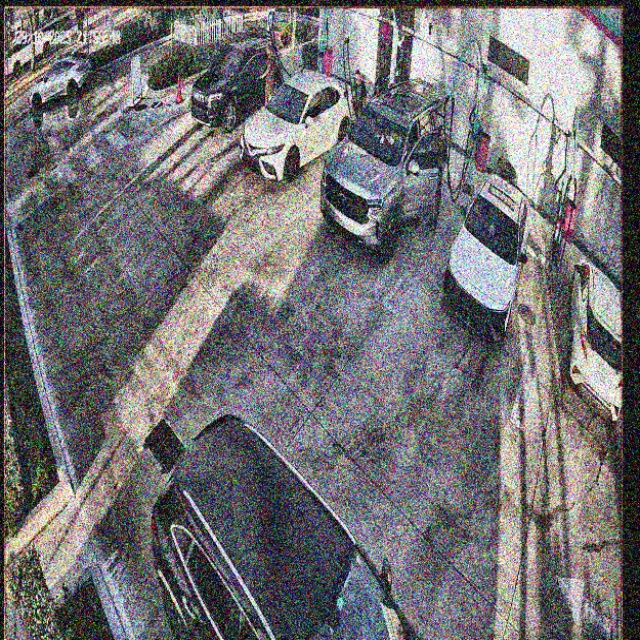Car: (147, 423, 424, 640), (326, 81, 446, 260), (445, 169, 531, 345), (240, 71, 368, 175)
